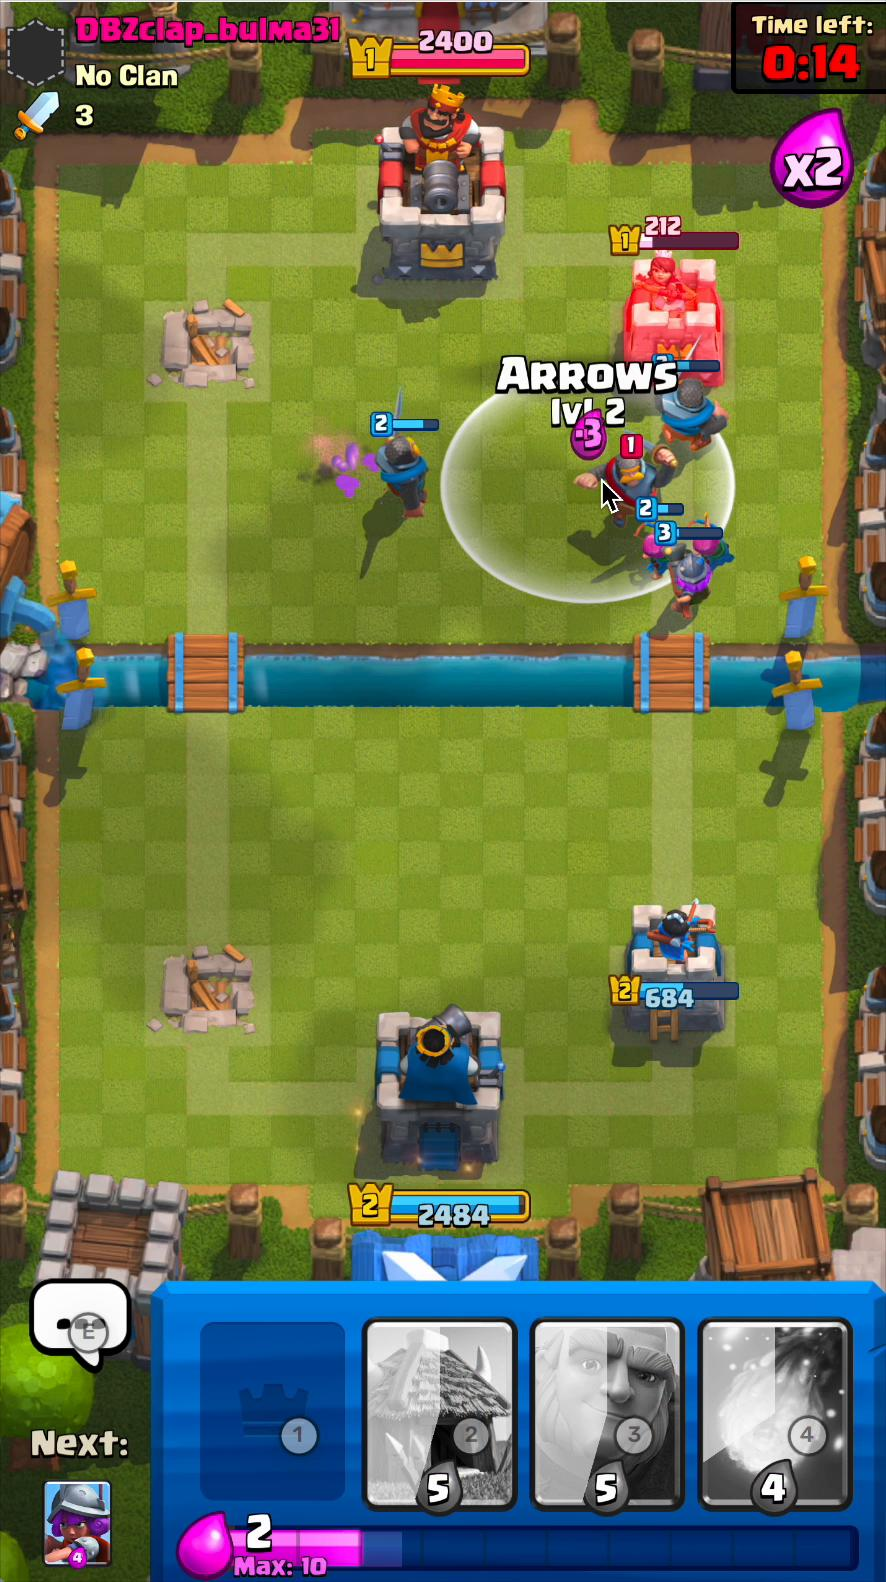archere: (686, 503, 735, 570), (636, 518, 673, 577)
chevalier: (586, 435, 676, 531), (375, 388, 438, 522), (656, 340, 725, 452)
mousquetaire: (662, 539, 713, 618)
